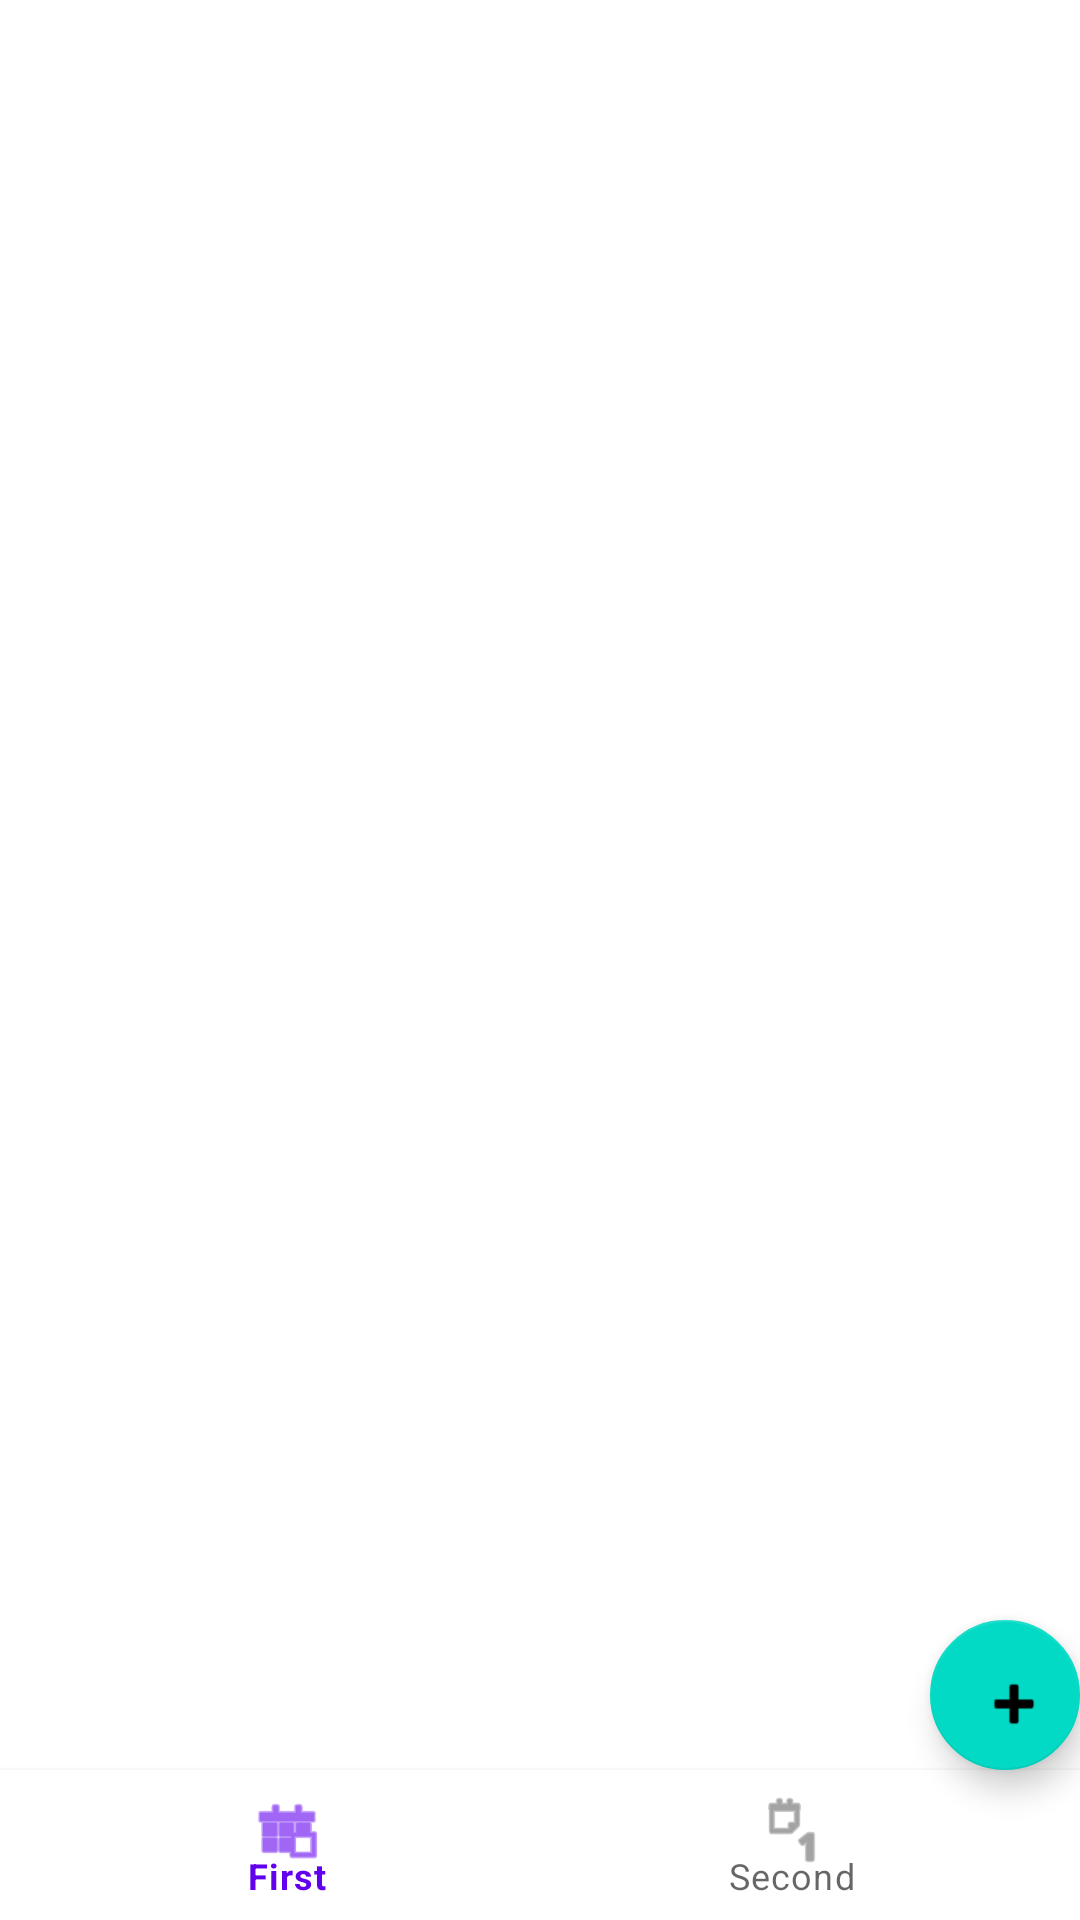

Named icons in this screenshot (1080w x 1920h) and their centers, (x,y):
add: (1005,1695)
